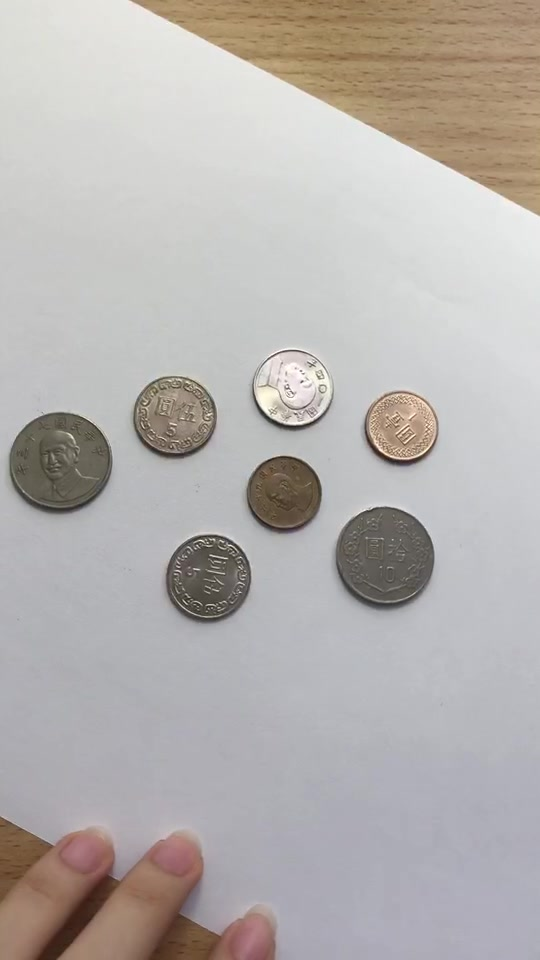1 dallar: (240, 449, 324, 538), (357, 386, 441, 475)
10 dallar: (5, 404, 119, 518), (329, 502, 443, 616)
5 dallar: (129, 371, 224, 463), (245, 342, 340, 434), (160, 530, 255, 622)
